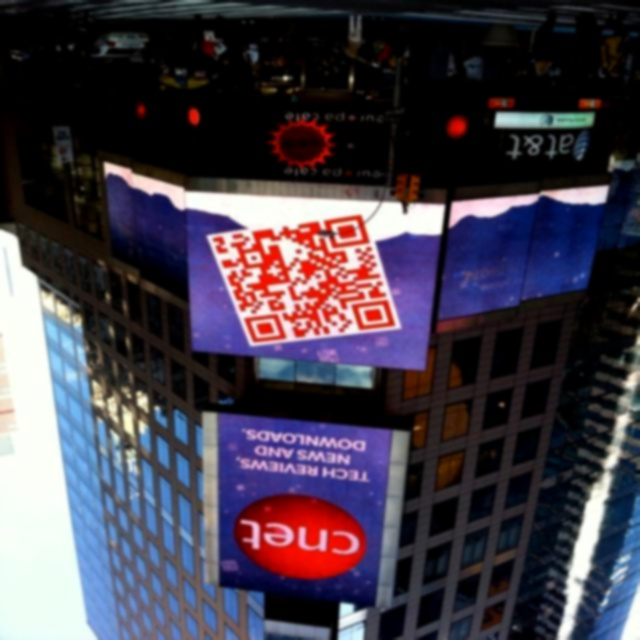qr-code: (212, 215, 396, 343)
